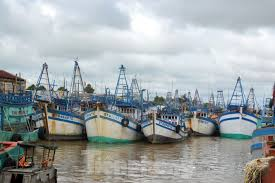tau_dansu: (87, 84, 144, 148), (46, 69, 90, 146), (140, 90, 192, 145), (218, 80, 260, 139), (186, 90, 218, 140)
